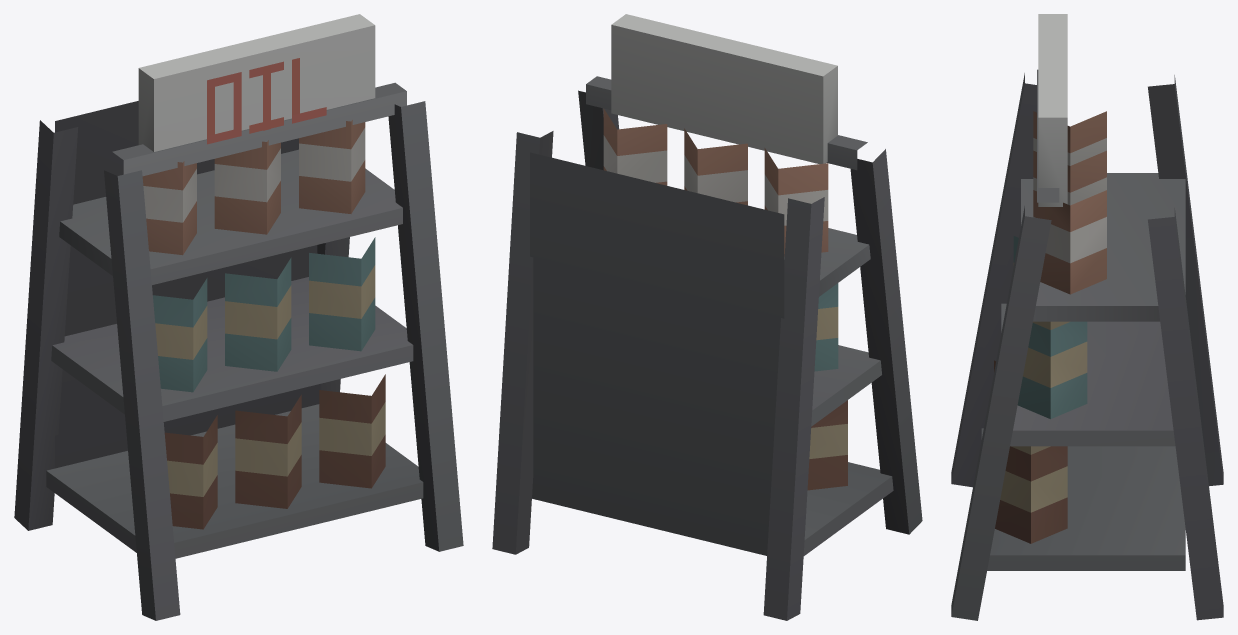
Rendered from cans.lod1.glb.
3 views of the same model, side by side, from view 1: azimuth 30°, elevation 25°; view 2: azimuth 150°, elevation 25°; view 3: azimuth 270°, elevation 25° (orthographic). The views are drawn at different scales.
Size of the model in its own units: 0.695 by 1.08 by 0.5544.
